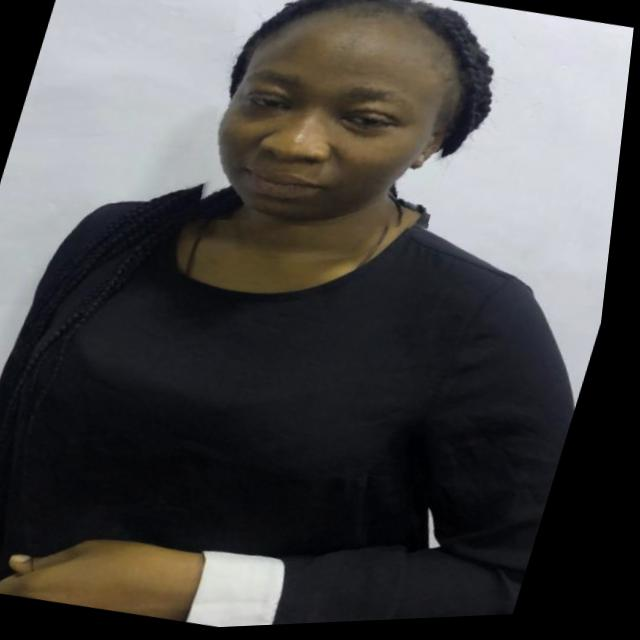sad: (183, 0, 491, 259)
